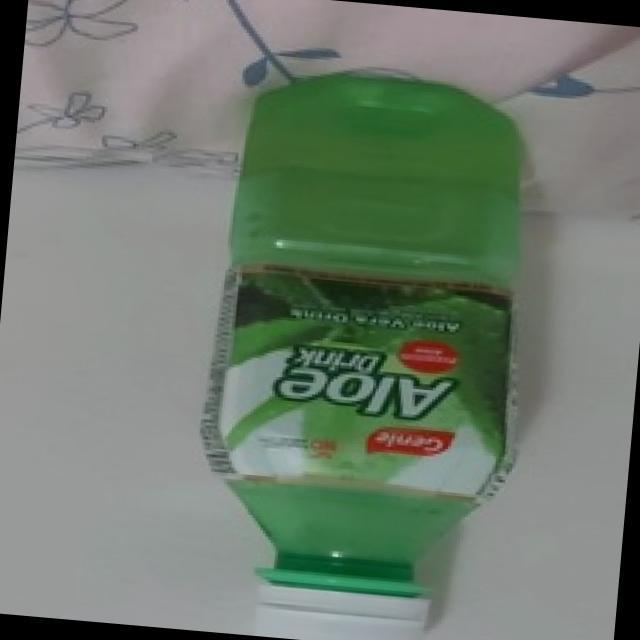good: (172, 38, 556, 640)
